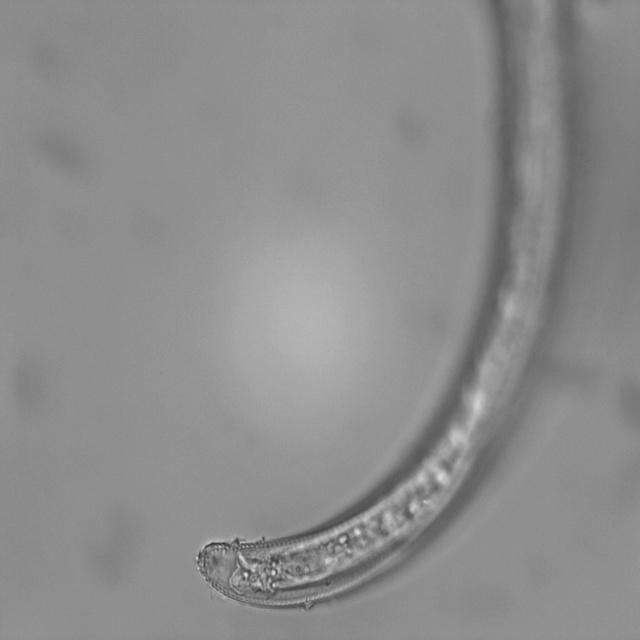Helicotylenchus: (194, 458, 481, 615)
